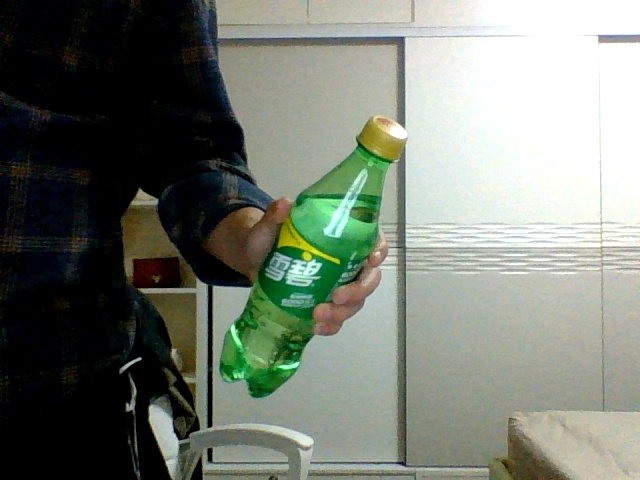Sprite: (216, 115, 407, 398)
